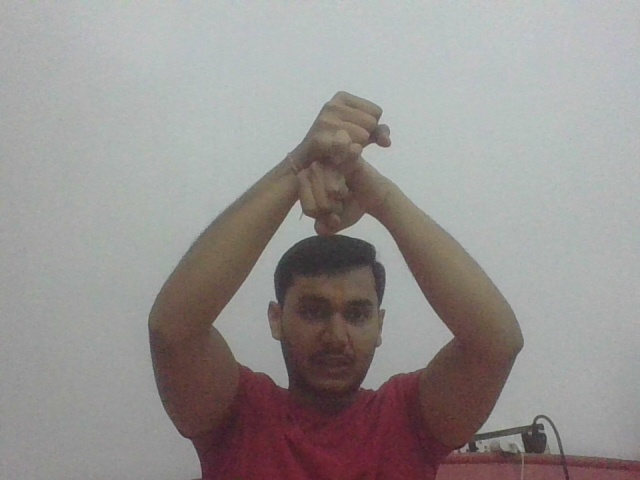S: (295, 87, 393, 237)
